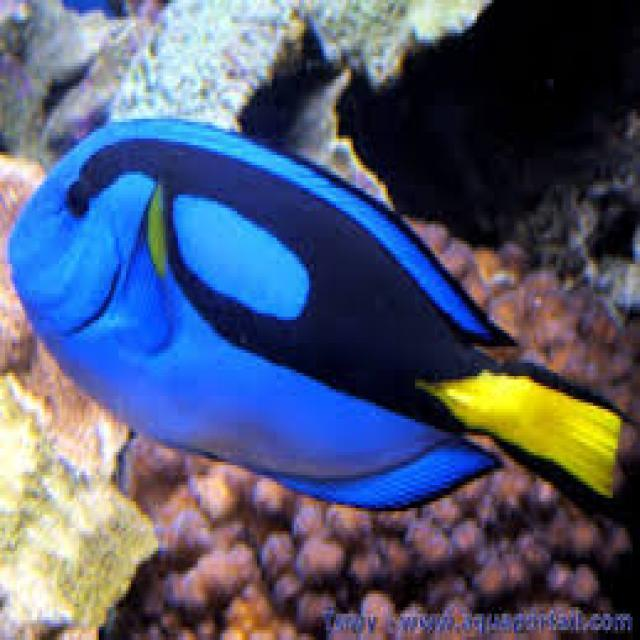TangFish: (9, 116, 618, 523)
